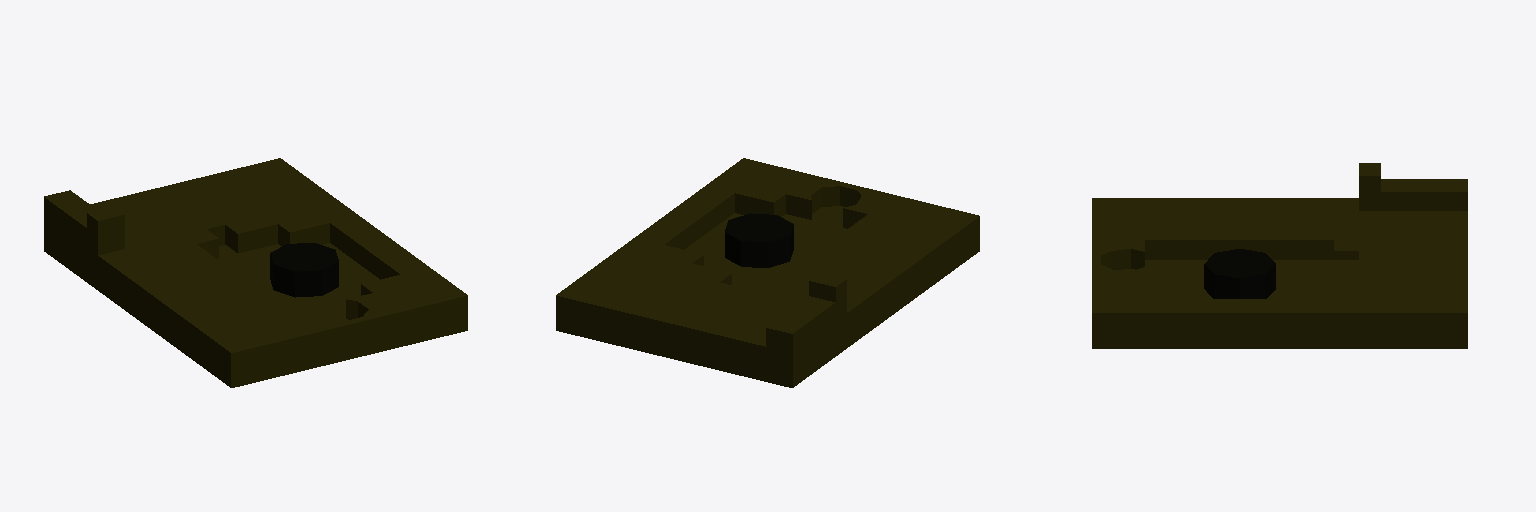
The model's file is dungeon2_ground_COL.obj.
3 views of the same model, side by side, from view 1: azimuth 30°, elevation 25°; view 2: azimuth 150°, elevation 25°; view 3: azimuth 270°, elevation 25° (orthographic).
Parts seen in each view (by area): view 1: Cube.513_Cube.861; view 2: Cube.513_Cube.861; view 3: Cube.513_Cube.861.
Part boxes in pixels (x1,y1,x2,y2): Cube.513_Cube.861: (44, 158, 467, 387); Cube.513_Cube.861: (556, 158, 979, 387); Cube.513_Cube.861: (1092, 163, 1467, 348).
Size of the model in its own units: 14.1 by 3.96 by 19.37.